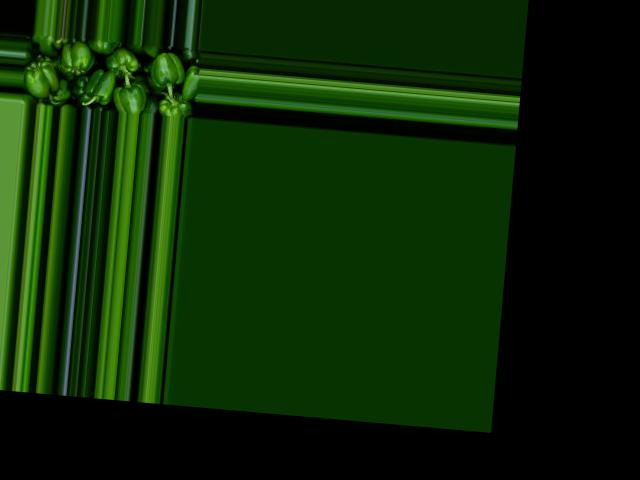bell_pepper: (21, 33, 199, 116)
